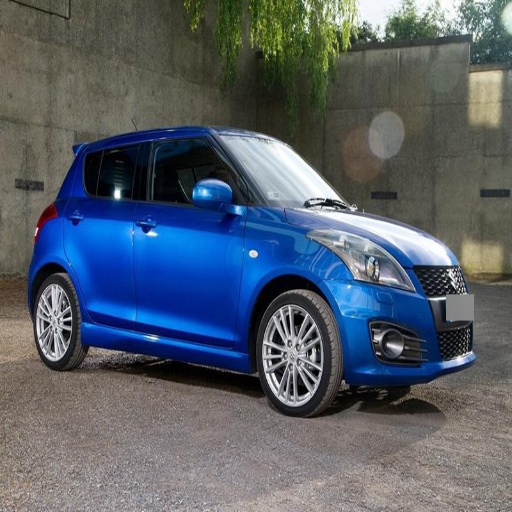front_bumper: (333, 266, 476, 386)
front_right_door: (134, 137, 244, 349)
front_right_light: (323, 233, 417, 292)
